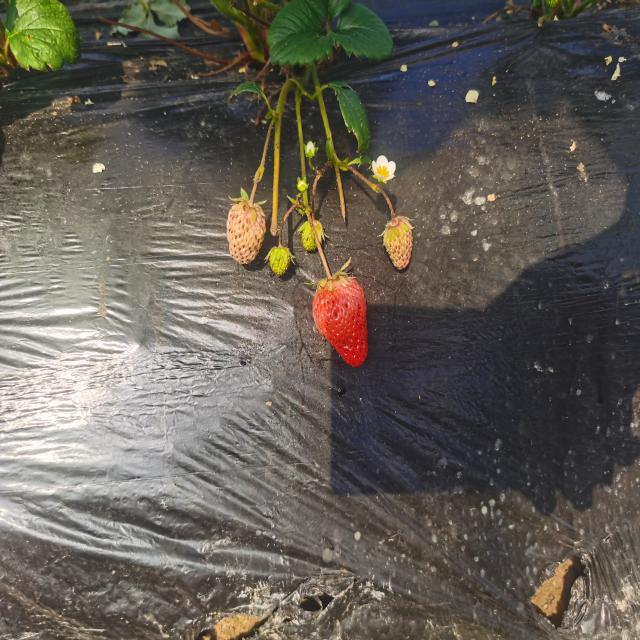stem: (315, 239, 333, 281)
strawberry: (312, 275, 368, 366)
